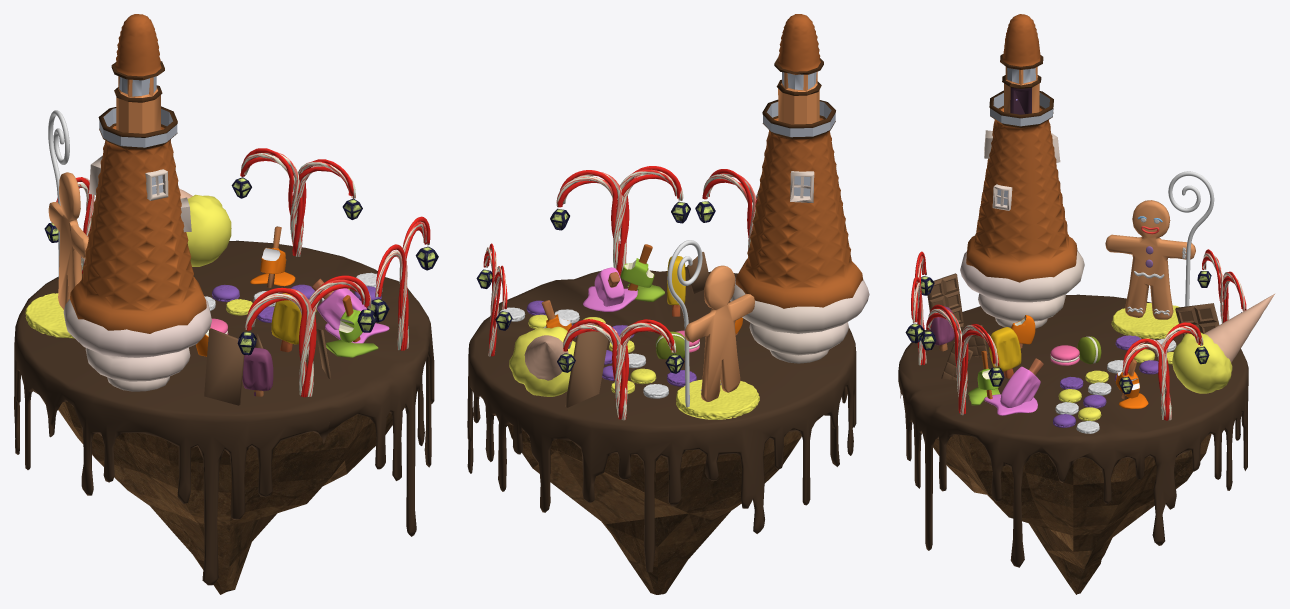
The model's file is p2_dolci.fbx.
3 renders of one model, left to right at view 1: azimuth 30°, elevation 25°; view 2: azimuth 150°, elevation 25°; view 3: azimuth 270°, elevation 25°, orthographic. The views are drawn at different scales.
Parts seen in each view (by area): view 1: glassa, Cube.004, ground.003, lamp, lampioni, Gingerbread Man, ciocco, lamp.001, cono, biscotto.017, Cube.073, biscotto.009 (+6 smaller); view 2: glassa, Cube.004, ground.003, Gingerbread Man, lamp.001, cono, lampioni.001, biscotto.017, ciocco, biscotto.009, lampioni, Cube.073 (+5 smaller); view 3: glassa, Cube.004, ground.003, Gingerbread Man, cono, biscotto.017, ciocco, lamp.001, lampioni, Cube.073, biscotto.009, lamp (+9 smaller).
Part boxes in pixels (x1,y1,x2,y2): glassa: (14, 240, 434, 585); Cube.004: (63, 14, 211, 391); ground.003: (58, 401, 404, 594); lamp: (237, 275, 376, 397); lampioni: (231, 148, 362, 256); Gingerbread Man: (48, 172, 88, 309); ciocco: (204, 328, 331, 405); lamp.001: (367, 216, 438, 350); cono: (179, 188, 231, 266); biscotto.017: (204, 272, 381, 322); Cube.073: (311, 278, 389, 343); biscotto.009: (25, 293, 74, 338); glassa: (467, 266, 856, 572); Cube.004: (730, 14, 869, 363); ground.003: (508, 424, 801, 594); Gingerbread Man: (684, 265, 754, 401); lamp.001: (550, 166, 690, 276); cono: (509, 326, 575, 396); lampioni.001: (557, 319, 684, 420); biscotto.017: (499, 300, 696, 398); ciocco: (565, 252, 735, 407); biscotto.009: (676, 379, 759, 419); lampioni: (476, 243, 512, 356); Cube.073: (583, 267, 637, 311); glassa: (898, 294, 1248, 567); Cube.004: (960, 14, 1084, 328); ground.003: (933, 433, 1211, 594); Gingerbread Man: (1105, 200, 1195, 319); cono: (1172, 293, 1275, 393); biscotto.017: (1053, 335, 1176, 433); ciocco: (927, 273, 1219, 380); lamp.001: (920, 304, 1004, 415); lampioni: (1119, 322, 1209, 420); Cube.073: (984, 358, 1043, 415); biscotto.009: (1111, 303, 1179, 339); lamp: (905, 251, 934, 365).
Bounding box in the file's own units: 255 × 422 × 275.
32 materials, 19 textured.
